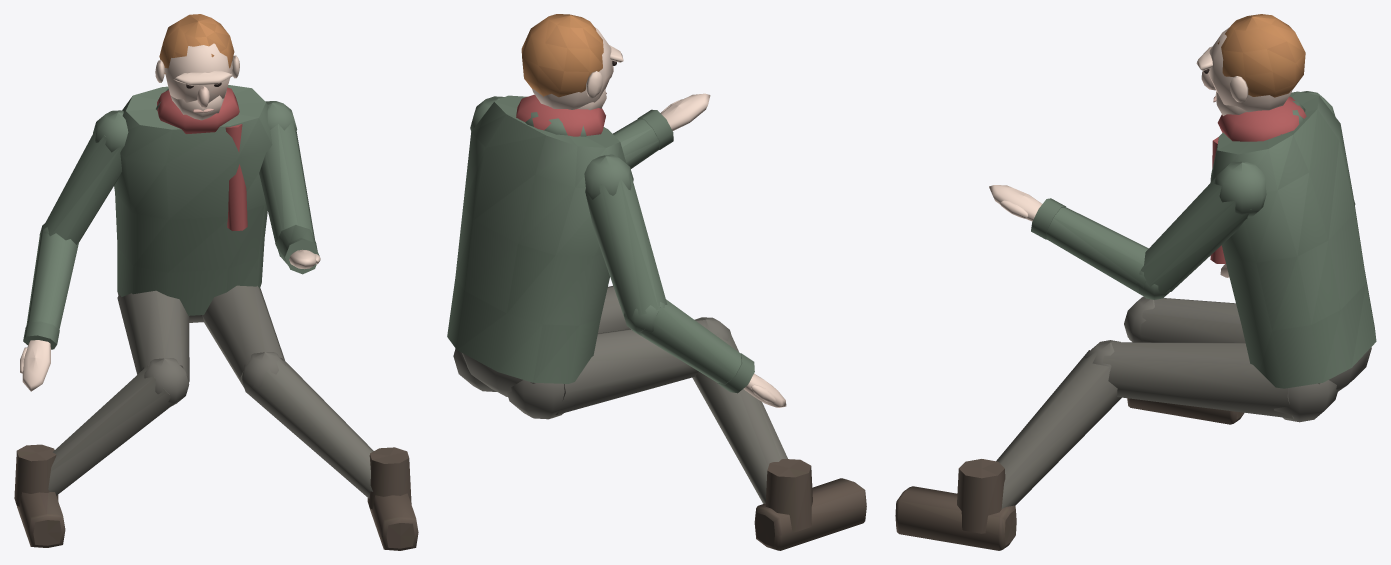
Rendered from crowd_seated_a_b.glb.
3 views of the same model, side by side, from view 1: azimuth 30°, elevation 25°; view 2: azimuth 150°, elevation 25°; view 3: azimuth 270°, elevation 25° (orthographic). The views are drawn at different scales.
Parts seen in each view (by area): view 1: body; view 2: body; view 3: body.
Boxes of the visible parts, <box> form: body: <box>14,14,418,550</box>; body: <box>447,14,866,550</box>; body: <box>895,14,1376,550</box>.
Bounding box in the file's own units: 0.9225 × 1.25 × 1.09.
